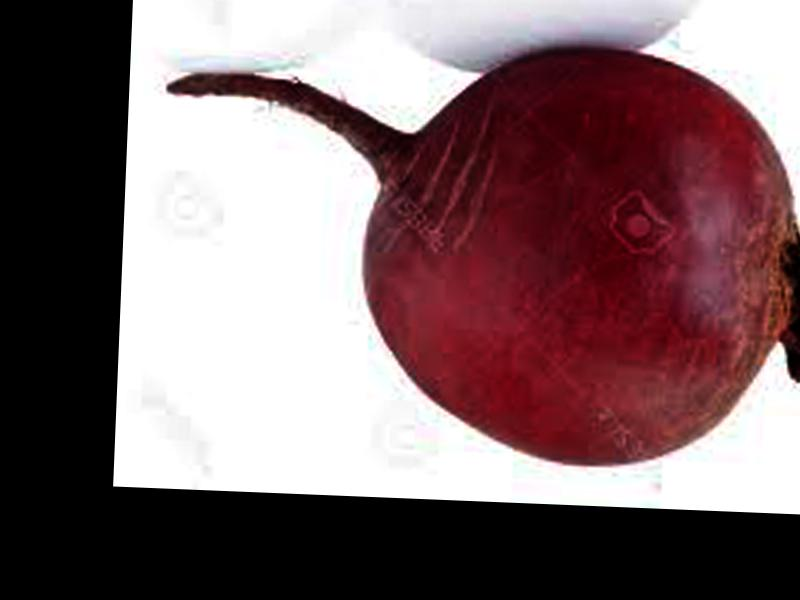Beet: (152, 31, 800, 473)
